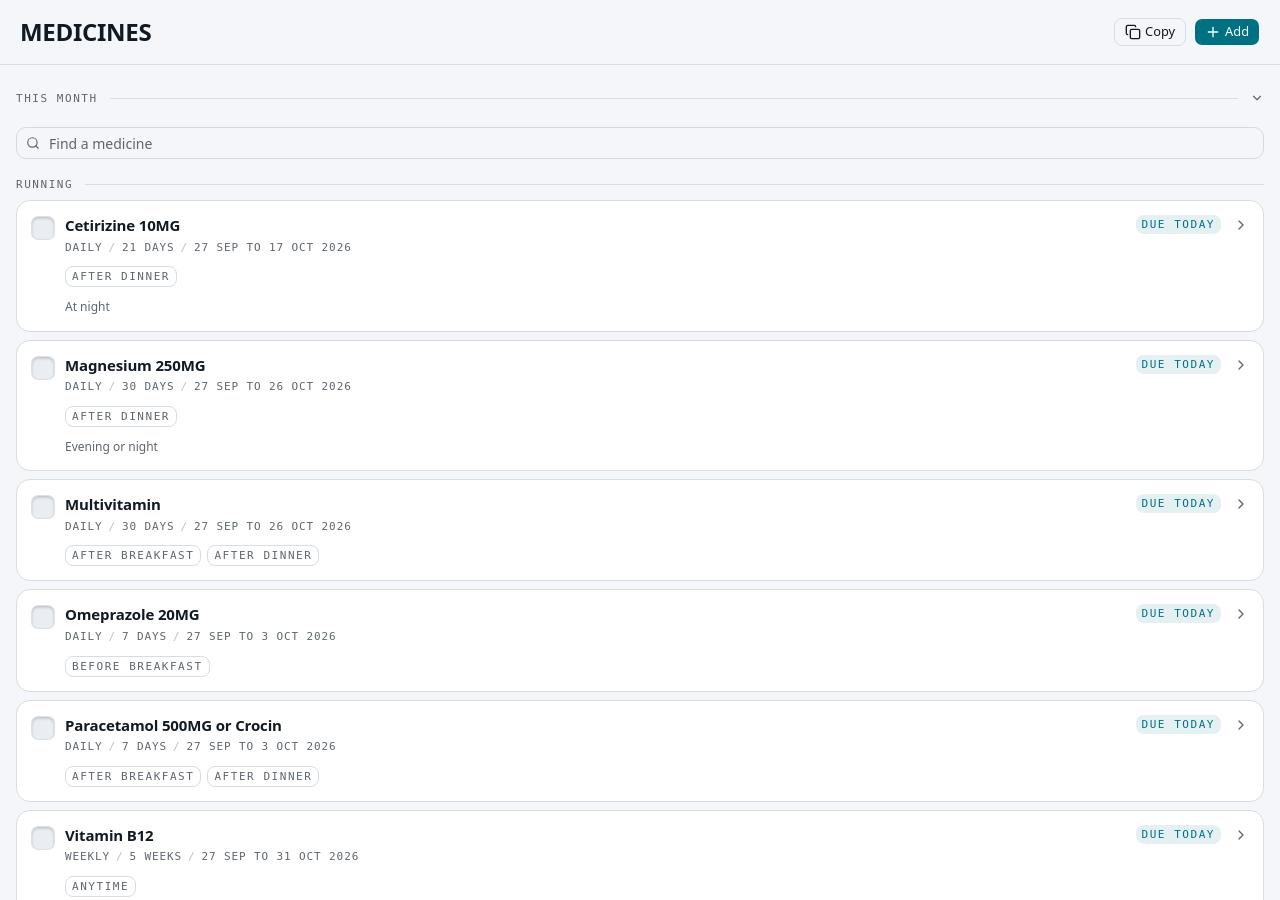
Test: the Medicines screen › reveals a match inside the folded Archive, then hands the fold back
This screenshot has width=1280, height=900.
Check: the text "Calcium with D3" is not shown
A fold must never be able to swallow the thing being looked for.
In the search field labelled "Find a medicine": (640, 143) [16,127,1264,159], type "calcium"
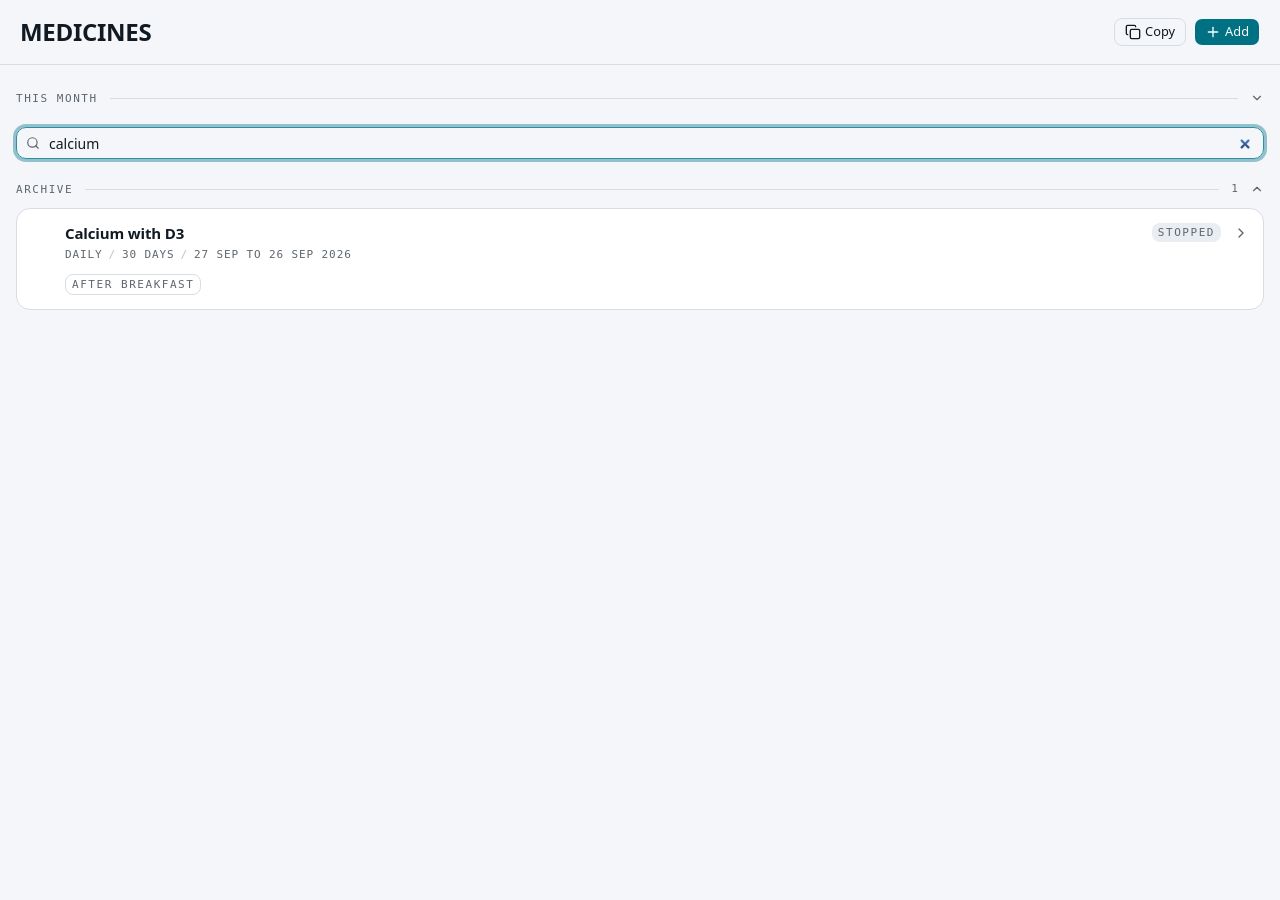
Check: the heading "Calcium with D3" is shown, box [65,222,184,242]
Clear the search field named "Find a medicine": (640, 143) [16,127,1264,159]
(page scrolled)
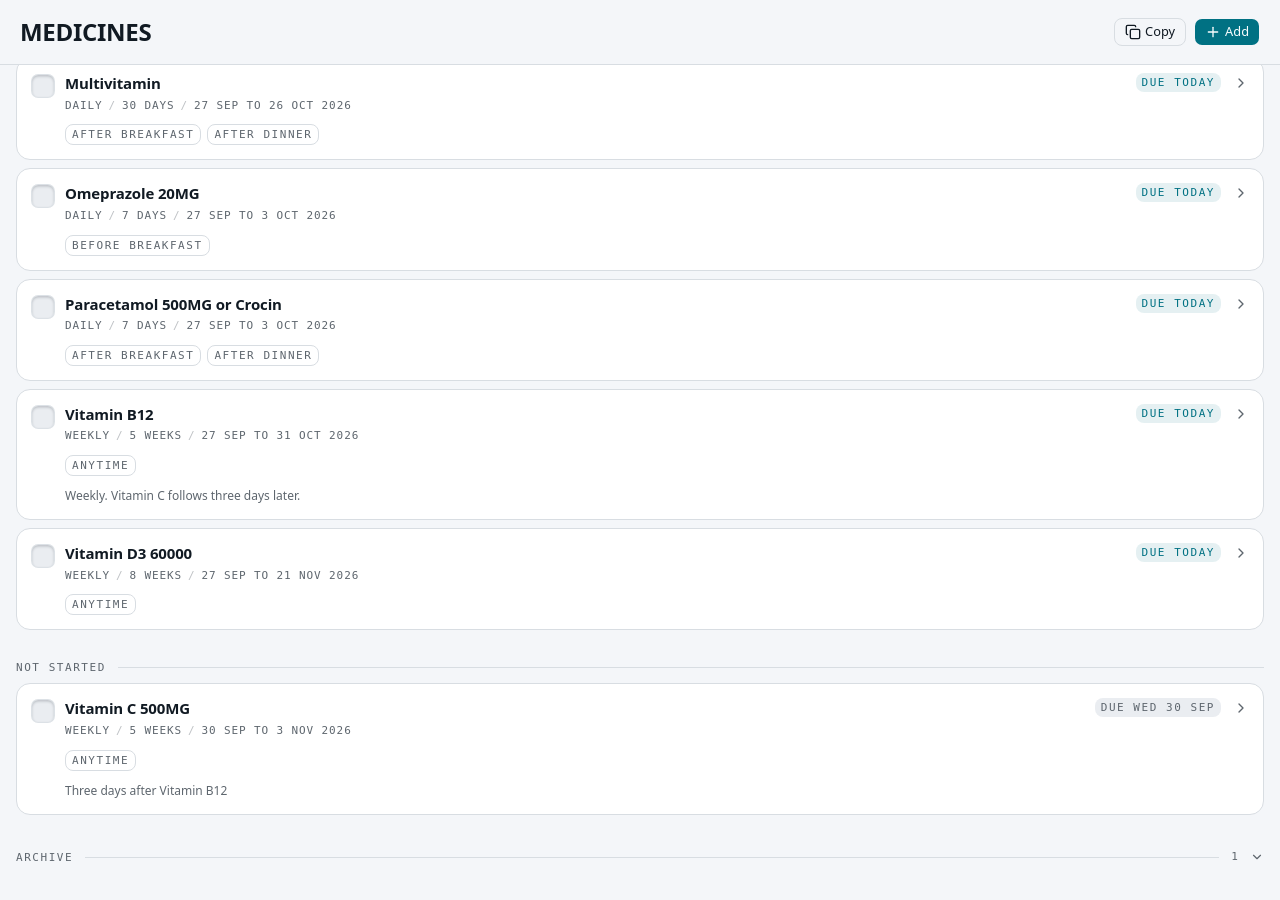
Check: the link "Calcium with D3" is gone
Check: the button "Archive 1" is collapsed, box [16,847,1264,868]
